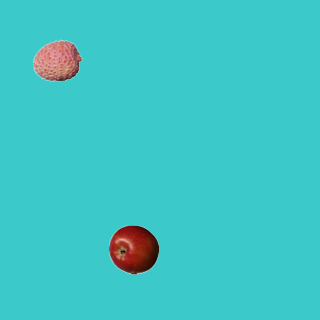Apple Braeburn: (108, 224, 158, 274)
Lychee: (32, 35, 82, 85)
